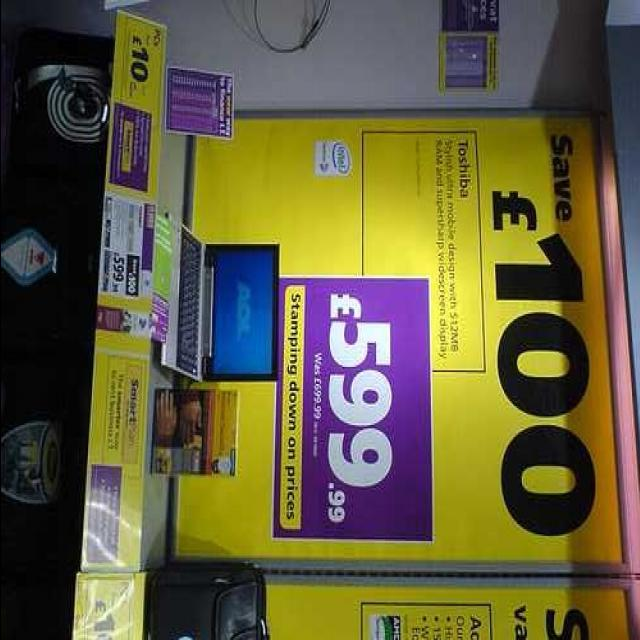laptop: (174, 236, 278, 380)
